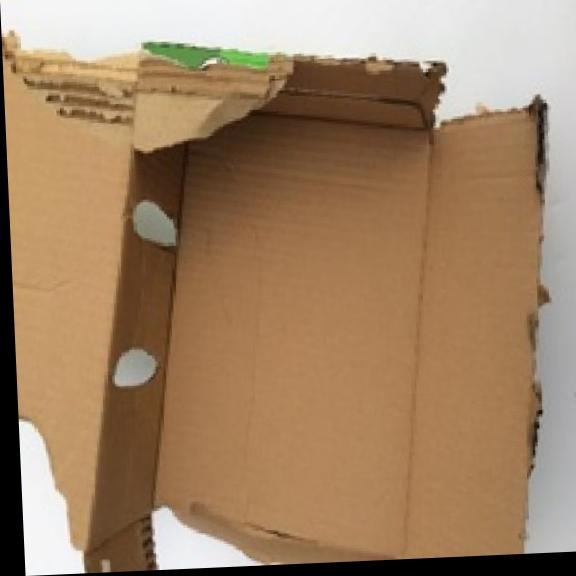Kertas: (4, 38, 541, 568)
